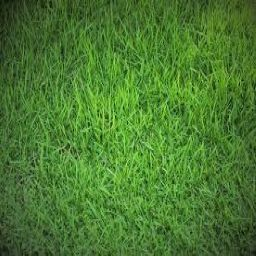grass: (2, 4, 248, 249)
